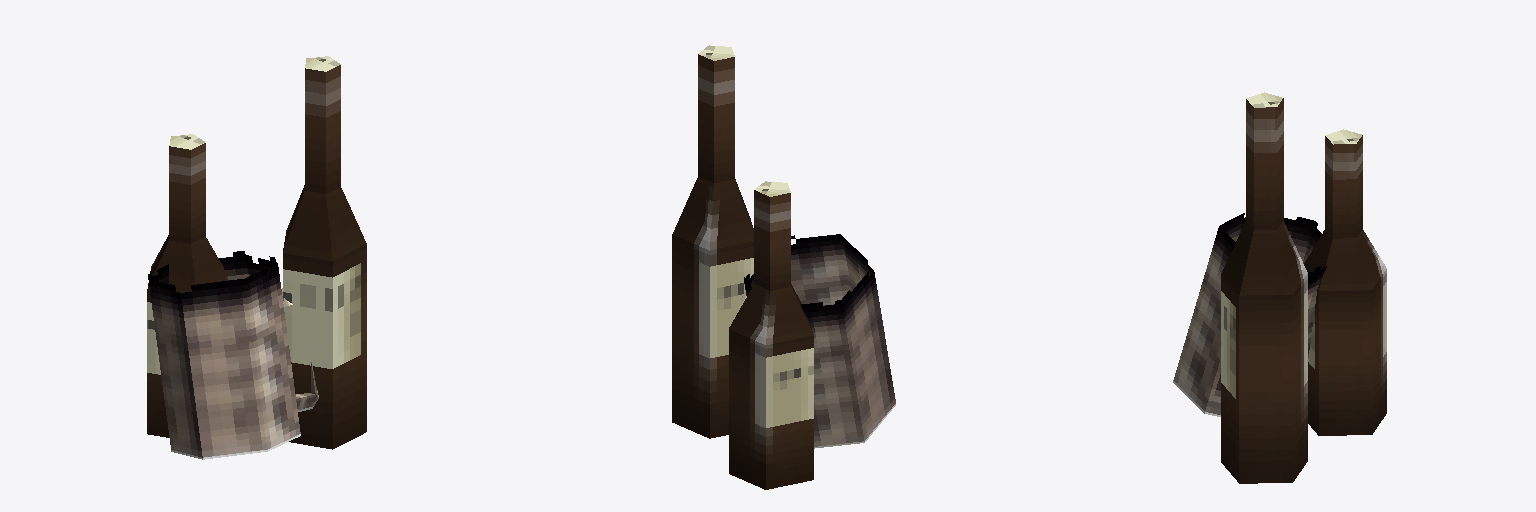
3 renders of one model, left to right at view 1: azimuth 30°, elevation 25°; view 2: azimuth 150°, elevation 25°; view 3: azimuth 270°, elevation 25°, orthographic.
Visible parts, largest first — view 1: Mesh_0, Mesh_1; view 2: Mesh_0, Mesh_1; view 3: Mesh_0, Mesh_1.
Boxes of the visible parts, x1=… form: Mesh_0: x1=147, y1=56, x2=366, y2=449; Mesh_1: x1=148, y1=251, x2=318, y2=459; Mesh_0: x1=672, y1=45, x2=813, y2=489; Mesh_1: x1=741, y1=234, x2=895, y2=448; Mesh_0: x1=1221, y1=92, x2=1386, y2=483; Mesh_1: x1=1173, y1=213, x2=1326, y2=416.
Bounding box in the file's own units: 0.3146 × 0.6083 × 0.3216.
Materials: 2 (2 with a texture image).